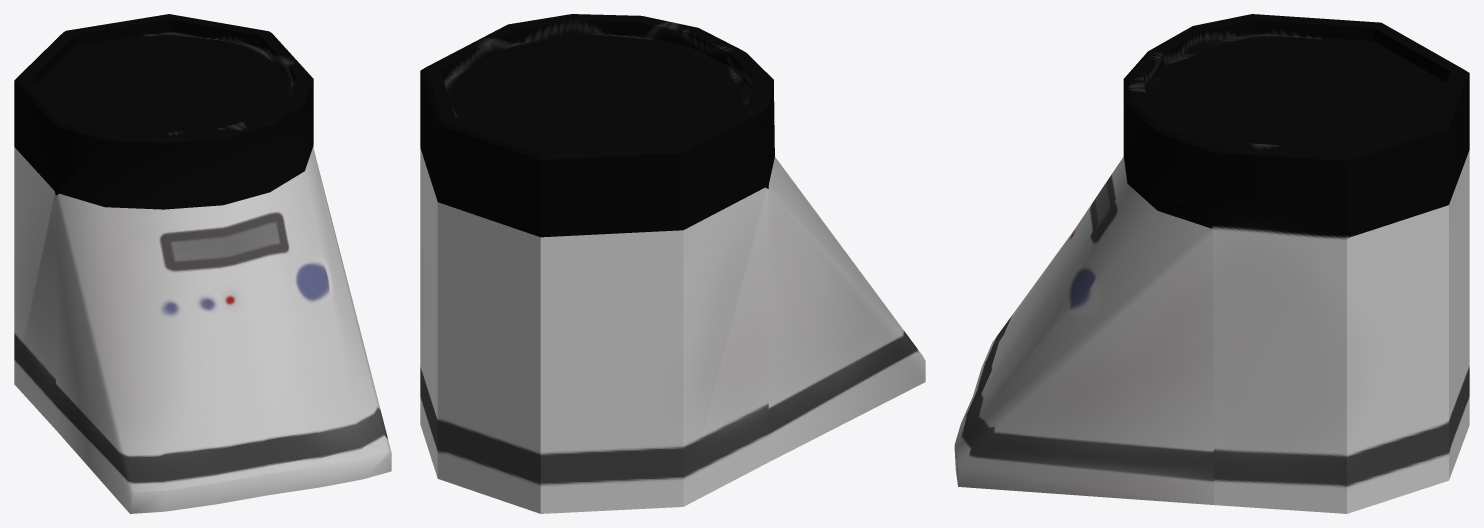
The model's file is SM_centrifugal separator.FBX.
3 renders of one model, left to right at view 1: azimuth 30°, elevation 25°; view 2: azimuth 150°, elevation 25°; view 3: azimuth 270°, elevation 25°, orthographic. The views are drawn at different scales.
Visible parts, largest first — view 1: centrifugal separator; view 2: centrifugal separator; view 3: centrifugal separator.
Part boxes in pixels (<box>): centrifugal separator: <box>14,14,391,513</box>; centrifugal separator: <box>420,14,925,513</box>; centrifugal separator: <box>954,14,1469,513</box>.
Bounding box in the file's own units: 134 × 136 × 179.
1 material, 1 textured.
